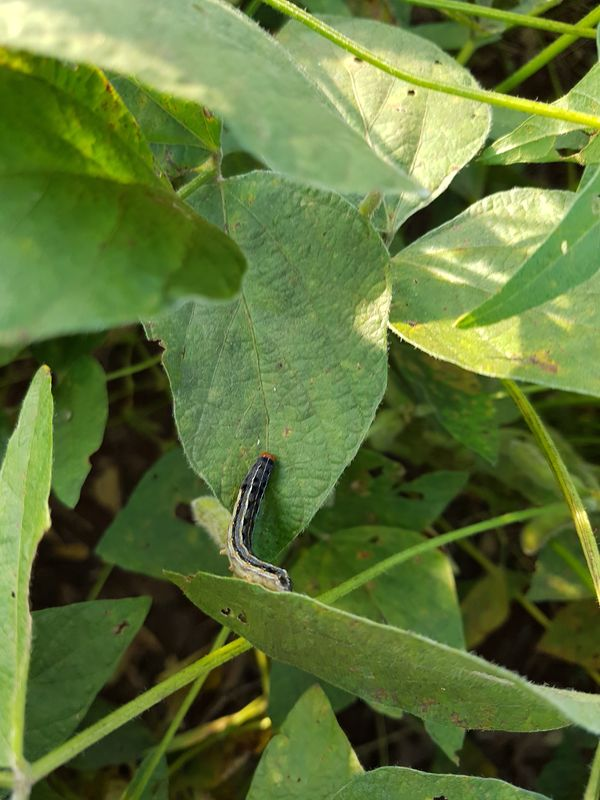Spodoptera_albula: (191, 441, 322, 606)
